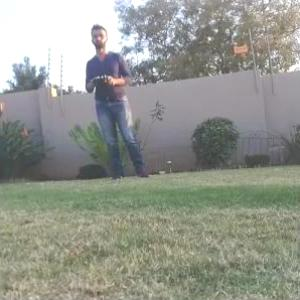follow: (83, 20, 157, 184)
